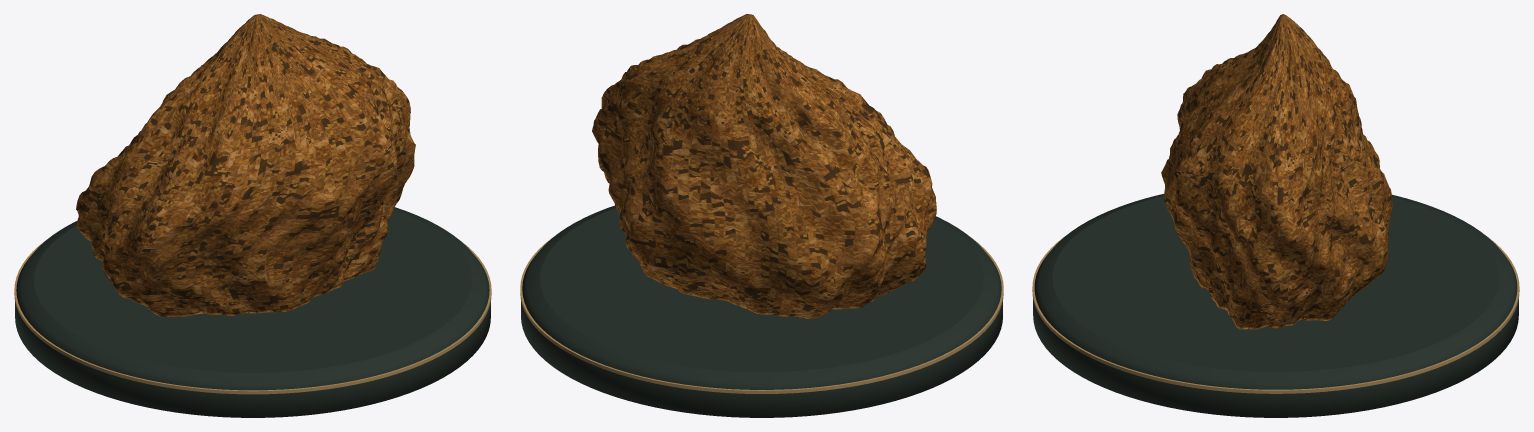
File: lingstone-concept-04-v191-ea7501842631.glb
The picture shows the model from 3 angles, left to right: view 1: azimuth 30°, elevation 25°; view 2: azimuth 150°, elevation 25°; view 3: azimuth 270°, elevation 25°; orthographic projection. The views are drawn at different scales.
Parts seen in each view (by area): view 1: XY-CONCEPT-004 concept stone, Centered beveled display plinth, Champagne gold edge; view 2: XY-CONCEPT-004 concept stone, Centered beveled display plinth, Champagne gold edge; view 3: Centered beveled display plinth, XY-CONCEPT-004 concept stone, Champagne gold edge.
Part boxes in pixels (box(x1,y1,x2,y2)): XY-CONCEPT-004 concept stone: box(76, 14, 415, 317); Centered beveled display plinth: box(15, 207, 490, 417); Champagne gold edge: box(14, 239, 491, 394); XY-CONCEPT-004 concept stone: box(592, 14, 936, 318); Centered beveled display plinth: box(521, 205, 1002, 417); Champagne gold edge: box(520, 237, 1003, 393); Centered beveled display plinth: box(1033, 194, 1518, 417); XY-CONCEPT-004 concept stone: box(1161, 14, 1392, 329); Champagne gold edge: box(1032, 236, 1519, 393).
Size of the model in its own units: 2.05 by 1.43 by 2.05.
Materials: 3 (1 with a texture image).
